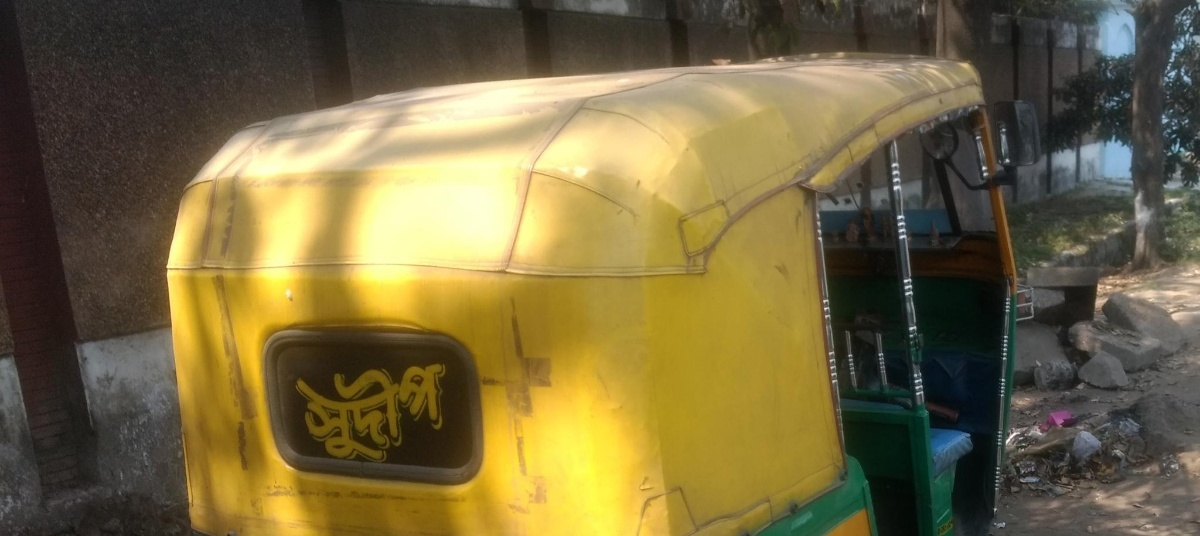text: (305, 362, 320, 462), (321, 362, 336, 462), (337, 362, 352, 462), (353, 362, 368, 462), (369, 362, 384, 462), (385, 362, 400, 462), (401, 362, 416, 462), (417, 362, 432, 462), (433, 362, 445, 462), (295, 362, 304, 462)
